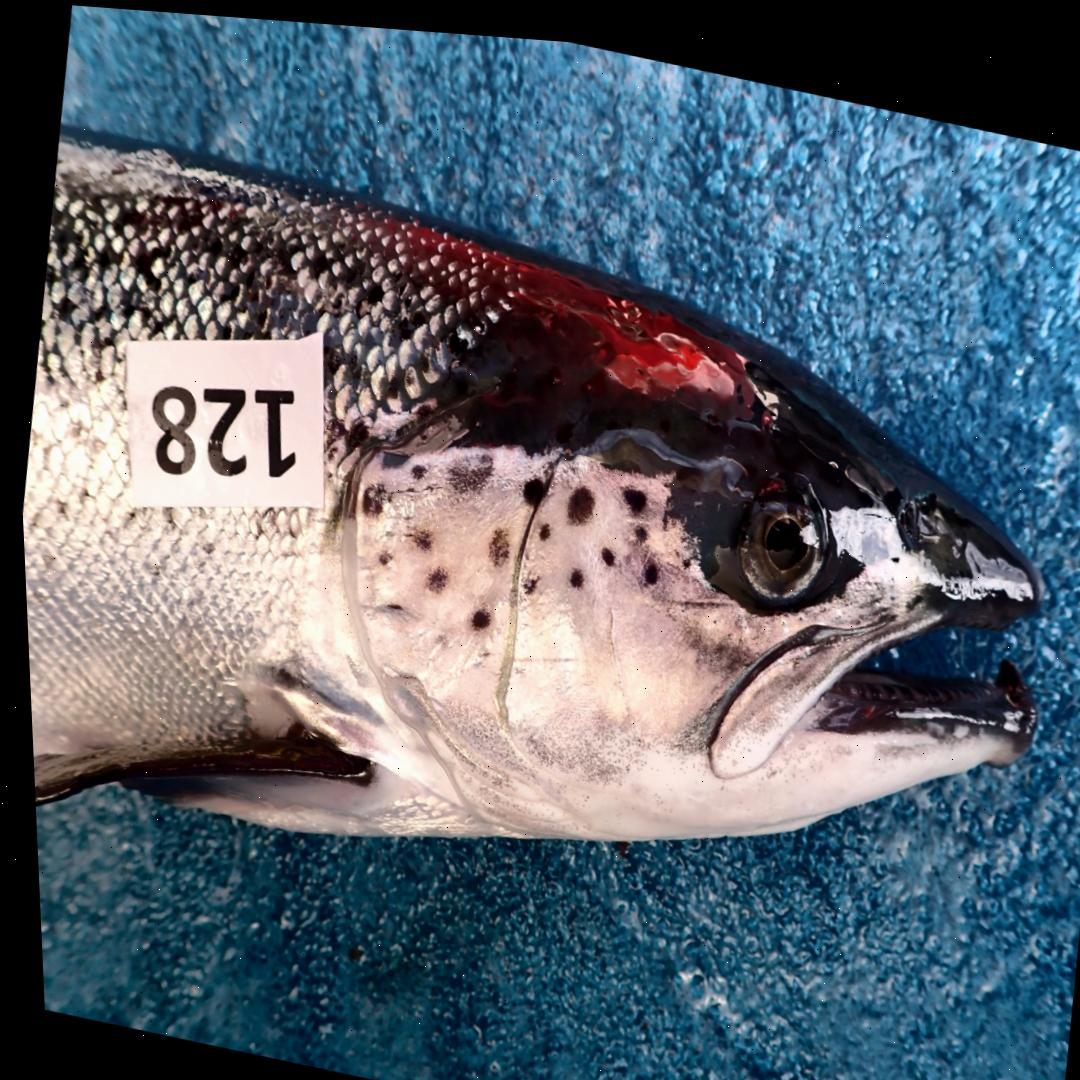spot: (443, 455, 487, 487), (560, 477, 589, 516), (482, 520, 504, 557), (356, 478, 381, 510), (618, 477, 642, 504), (517, 468, 539, 496), (424, 623, 447, 646), (419, 562, 441, 585), (378, 444, 404, 462), (464, 601, 484, 624), (637, 551, 653, 576), (407, 522, 426, 543), (627, 514, 642, 534), (405, 456, 422, 473), (375, 595, 397, 608), (563, 559, 577, 579), (595, 538, 609, 557), (518, 567, 532, 586), (532, 515, 545, 532), (372, 545, 385, 560), (675, 546, 689, 558)
